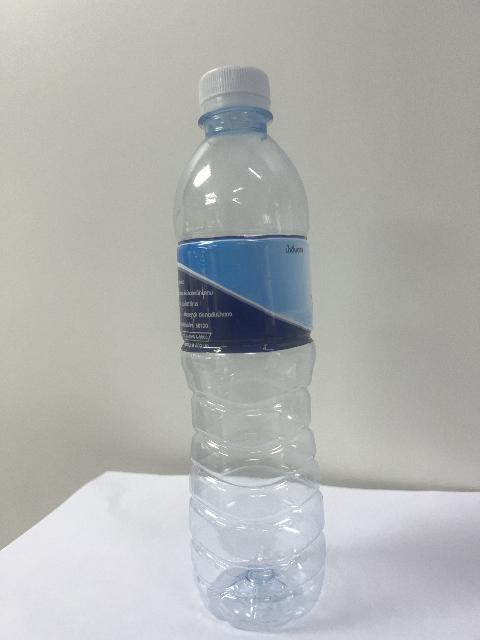bottle: (174, 66, 325, 629)
